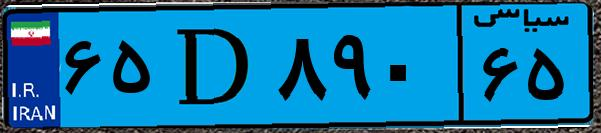0: (385, 28, 445, 110)
5: (525, 38, 570, 115), (110, 28, 158, 98)
6: (57, 26, 110, 100), (475, 38, 525, 113)
8: (270, 28, 330, 110)
9: (330, 28, 385, 110)
D: (158, 12, 270, 120)
